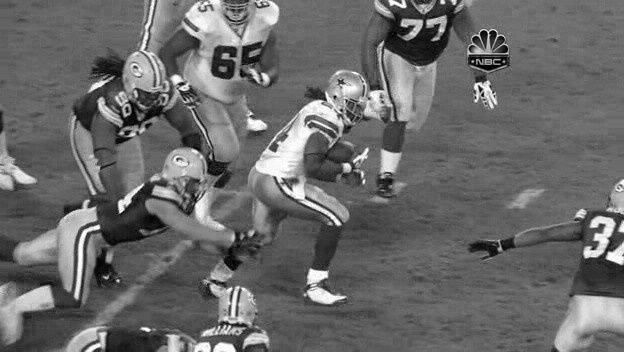person: (330, 73, 366, 121), (329, 73, 365, 121), (331, 73, 367, 121), (330, 72, 366, 120), (330, 74, 366, 122)
target_negative: (142, 205, 594, 323), (83, 265, 274, 298), (539, 195, 566, 258), (510, 320, 604, 330), (387, 276, 391, 342)
